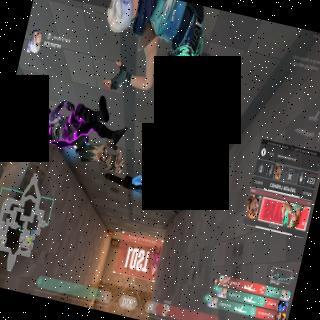ENEMY-BODY: (147, 243, 163, 277)
ENEMY-HEAD: (150, 269, 154, 275)
